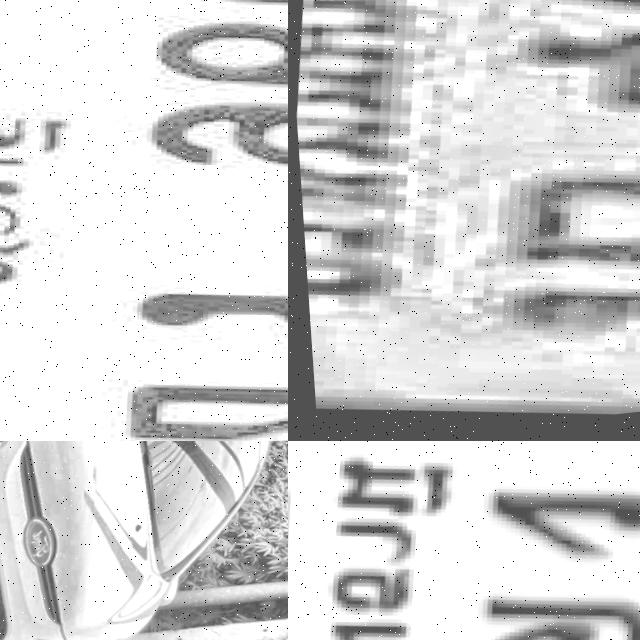license-plate: (288, 0, 640, 441), (0, 0, 288, 441), (288, 441, 640, 640)
